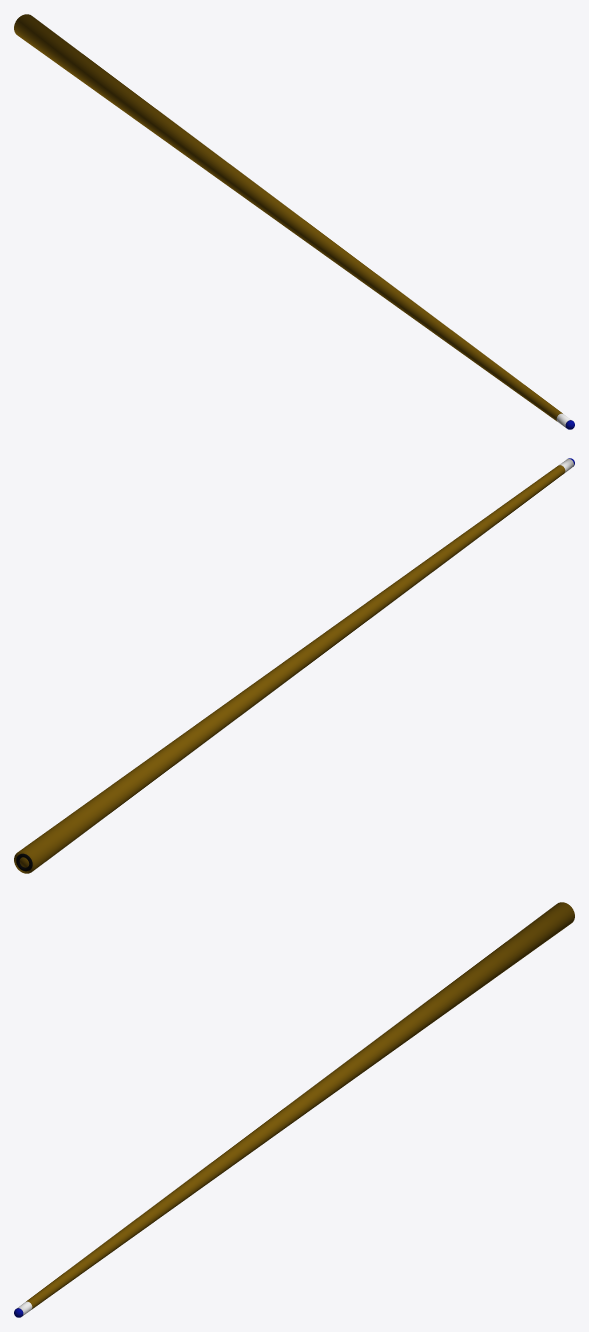
File: cue.glb
The picture shows the model from 3 angles, top to bottom: view 1: azimuth 30°, elevation 25°; view 2: azimuth 150°, elevation 25°; view 3: azimuth 330°, elevation 25°; orthographic projection.
Parts seen in each view (by area): view 1: Cylinder; view 2: Cylinder; view 3: Cylinder.
Boxes of the visible parts, box(x1,y1,x2,y2) form: Cylinder: box(14, 14, 571, 427); Cylinder: box(14, 459, 573, 873); Cylinder: box(17, 902, 574, 1315).
Bounding box in the file's own units: 0.0325 × 0.0325 × 1.46.
